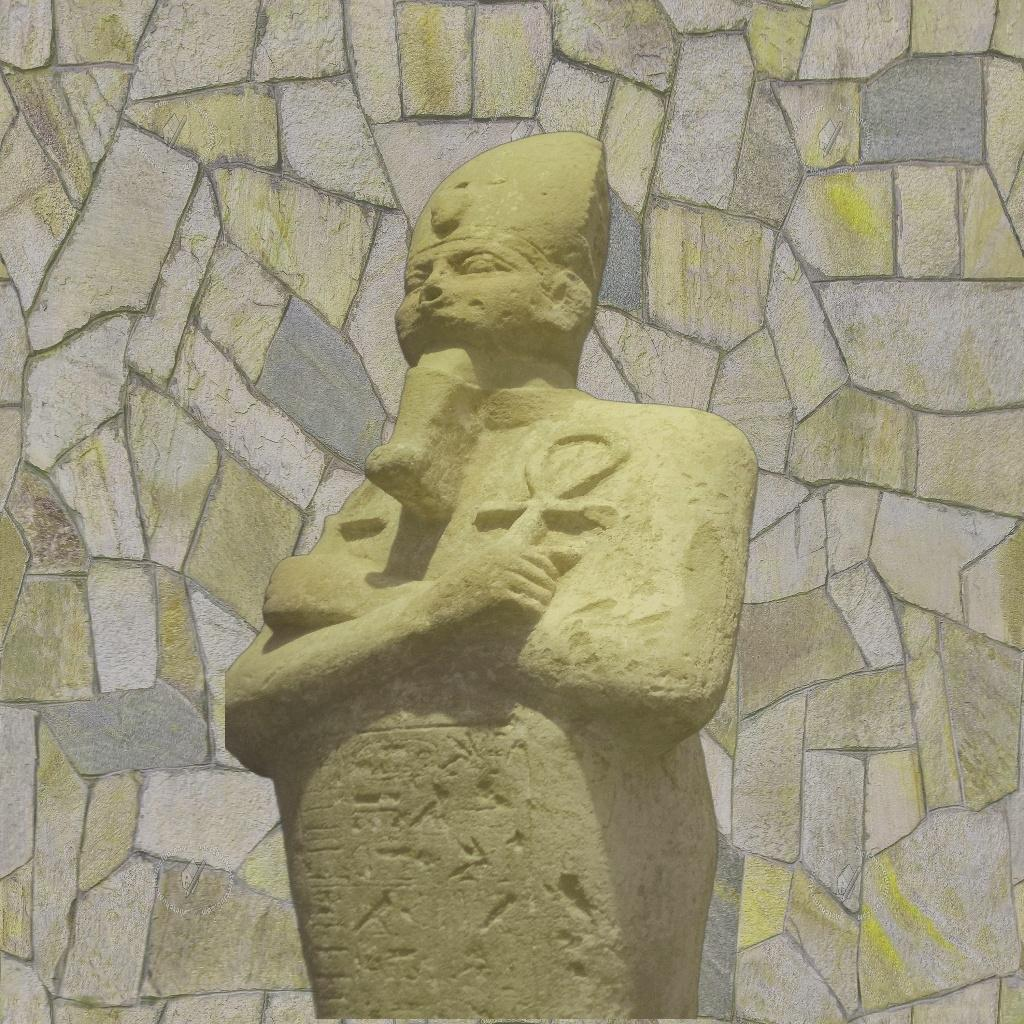Statue of Mentuhotep II: (225, 130, 776, 1019)
